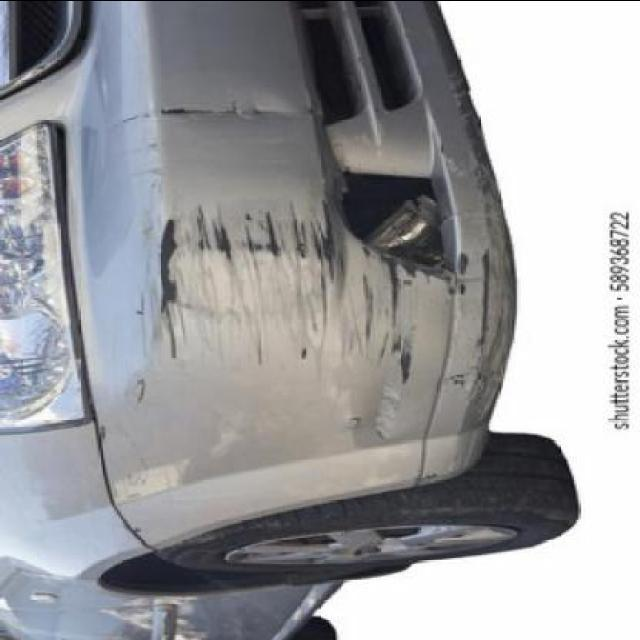front-bumper-dent: (80, 2, 510, 565)
